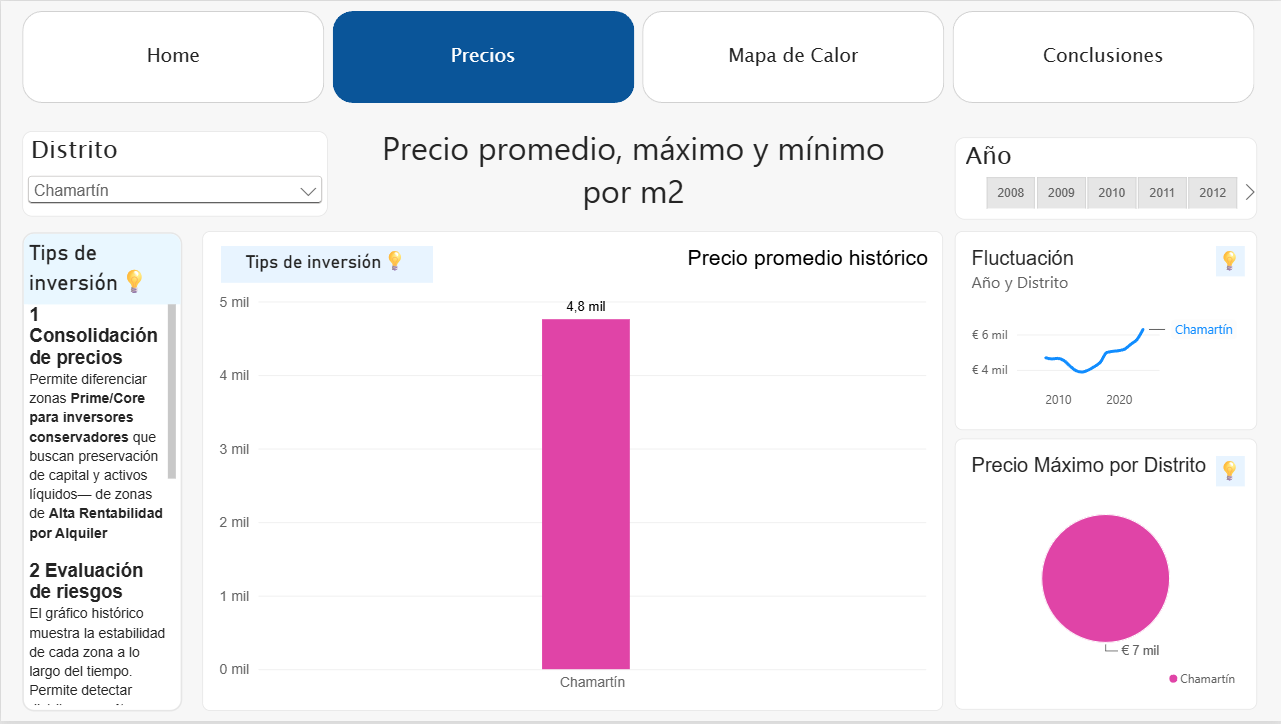

What the dashboard file says about the page in this screenshot:
{"tool":"powerbi","page":{"name":"Precios","canvas":[1280,720],"ordinal":1},"visuals":[{"type":"textbox","box":[21.1,125.6,1222.2,104.4],"z":0},{"type":"columnChart","title":"Precio promedio histórico ","fields":{"Category":["DimDistrito.Distrito"],"Series":["FactPrecios.Distrito"],"Y":["FactPrecios.Precio Promedio Anual"]},"box":[201.1,230,741.1,480],"z":1000},{"type":"lineChart","title":"Fluctuación","fields":{"Category":["DimFecha.Año"],"Series":["DimDistrito.Distrito"],"Y":["FactPrecios.Precio Promedio"]},"box":[953.3,230,302.2,198.9],"z":2000},{"type":"pieChart","title":"Precio Máximo por Distrito","fields":{"Category":["FactPrecios.Distrito"],"Y":["FactPrecios.Precio Máximo Distrito"]},"box":[953.3,437.8,302.2,271.1],"z":4000},{"type":"textbox","title":"Tips de inversión💡","box":[21.1,231.1,160,478.9],"z":6000},{"type":"actionButton","title":"Tips de inversión💡","box":[220,245,212.2,36.7],"z":7000},{"type":"textbox","box":[21.1,133.3,160,51.1],"z":8000},{"type":"actionButton","title":"💡","box":[1214.4,454.4,28.9,30],"z":9000},{"type":"actionButton","title":"💡","box":[1214.4,244.4,28.9,30],"z":10000},{"type":"slicer","fields":{"Values":["DimDistrito.Distrito"]},"box":[21.1,130,305.6,85.6],"z":10001},{"type":"pageNavigator","box":[21.1,10,1234.4,92.2],"z":10002},{"type":"slicer","title":"Año","fields":{"Values":["DimFecha.Año"]},"box":[953.3,136.7,302.2,82.2],"z":10003}]}

Visuals, with their boxes in screenshot pixels (x1, y1, x2, y2), scaled from the page's 1280x720 canvas onto the 1281x724 screenshot:
textbox: region(21, 126, 1244, 231)
"Precio promedio histórico " columnChart: region(201, 231, 943, 714)
"Fluctuación" lineChart: region(954, 231, 1256, 431)
"Precio Máximo por Distrito" pieChart: region(954, 440, 1256, 713)
"Tips de inversión💡" textbox: region(21, 232, 181, 714)
"Tips de inversión💡" actionButton: region(220, 246, 433, 283)
textbox: region(21, 134, 181, 185)
"💡" actionButton: region(1215, 457, 1244, 487)
"💡" actionButton: region(1215, 246, 1244, 276)
slicer - DimDistrito.Distrito: region(21, 131, 327, 217)
pageNavigator: region(21, 10, 1256, 103)
"Año" slicer: region(954, 137, 1256, 220)
